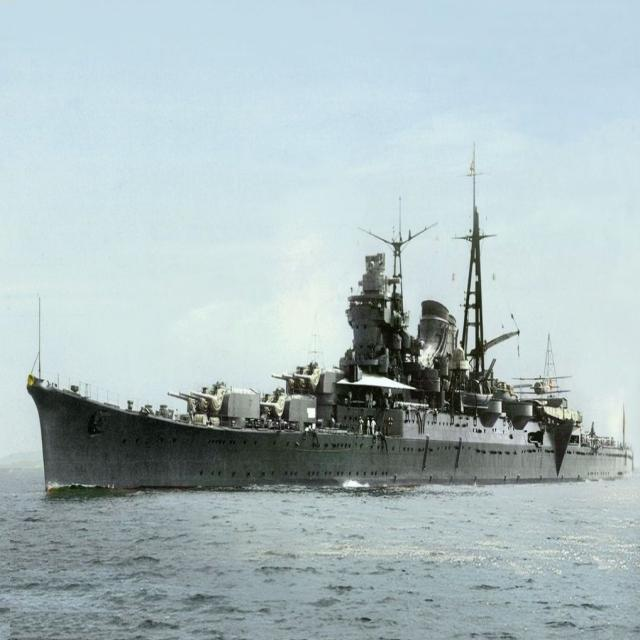navalvessels: (33, 158, 634, 511)
